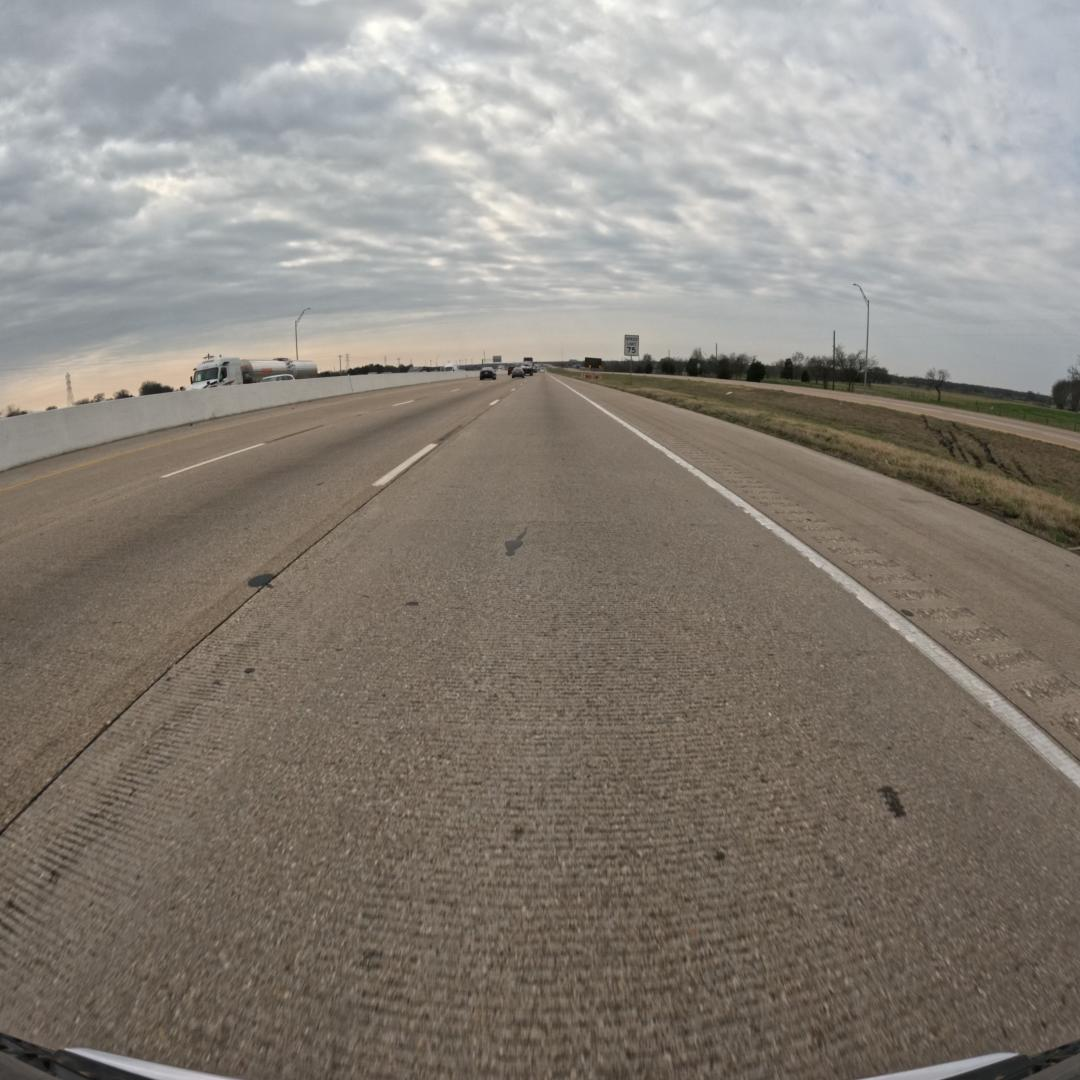lane0: (0, 376, 1080, 1076)
lane1: (0, 383, 512, 831)
